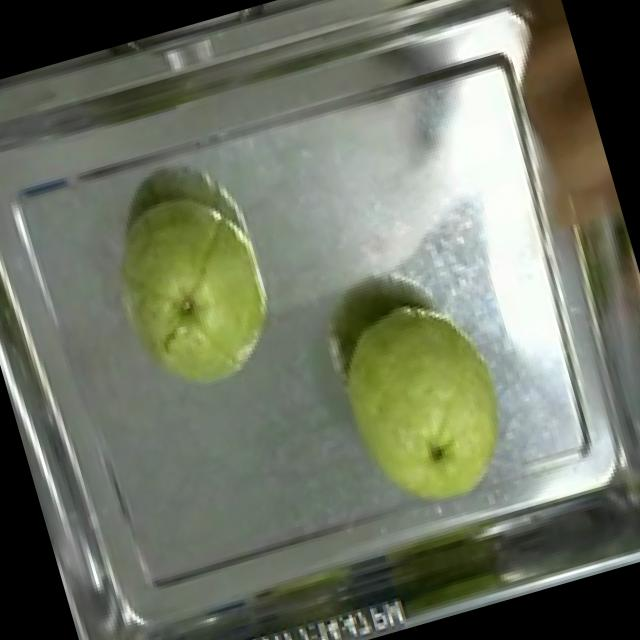Fruit: (310, 276, 534, 535), (77, 168, 304, 419), (450, 13, 634, 290)
